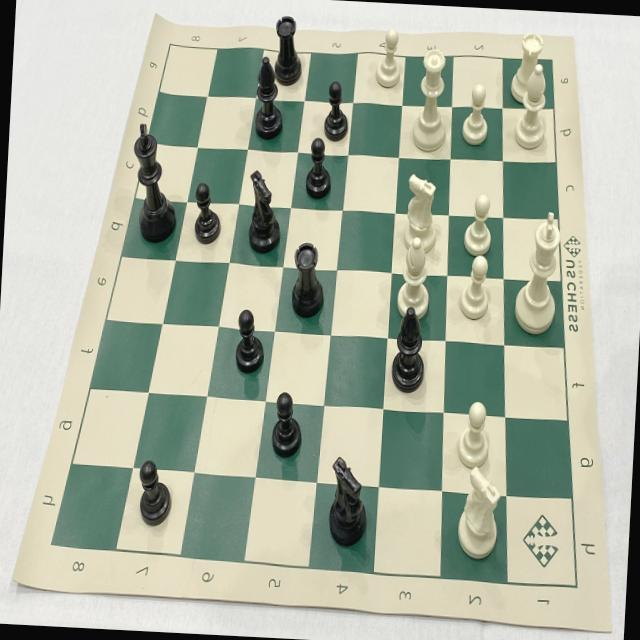black-bishop: (388, 301, 436, 398), (250, 50, 288, 148)
black-king: (128, 118, 184, 249)
black-knight: (324, 448, 372, 553), (245, 167, 285, 260)
black-pawn: (134, 451, 178, 532), (267, 386, 308, 460), (232, 304, 268, 380), (190, 177, 227, 249), (299, 134, 337, 202), (318, 75, 354, 146)
black-rook: (286, 232, 330, 322), (270, 7, 310, 91)
white-bishop: (508, 61, 558, 154), (393, 235, 434, 325)
white-king: (509, 205, 566, 337)
white-knight: (452, 461, 504, 566), (401, 168, 444, 256)
white-pawn: (454, 397, 495, 473), (457, 250, 495, 323), (373, 22, 409, 94), (457, 80, 493, 150), (461, 190, 496, 258)
white-queen: (408, 42, 451, 158)
white-rook: (507, 30, 547, 109)
